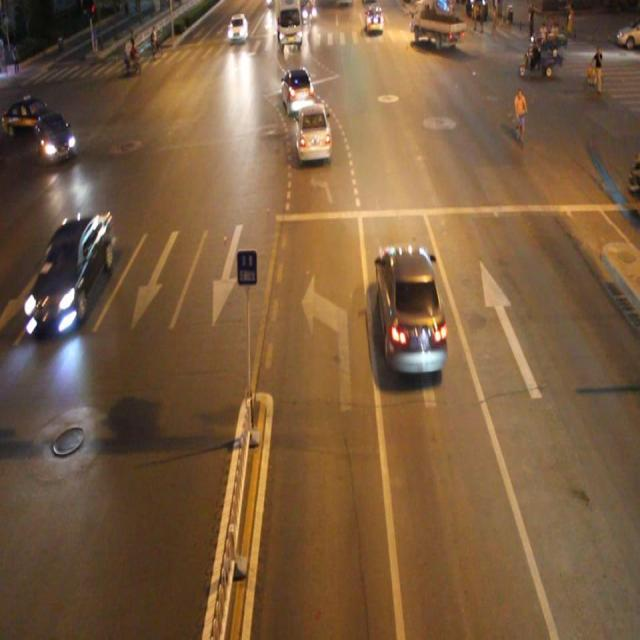car: (28, 212, 113, 337), (377, 242, 446, 376), (296, 100, 335, 163), (34, 110, 76, 164), (281, 63, 317, 116)
